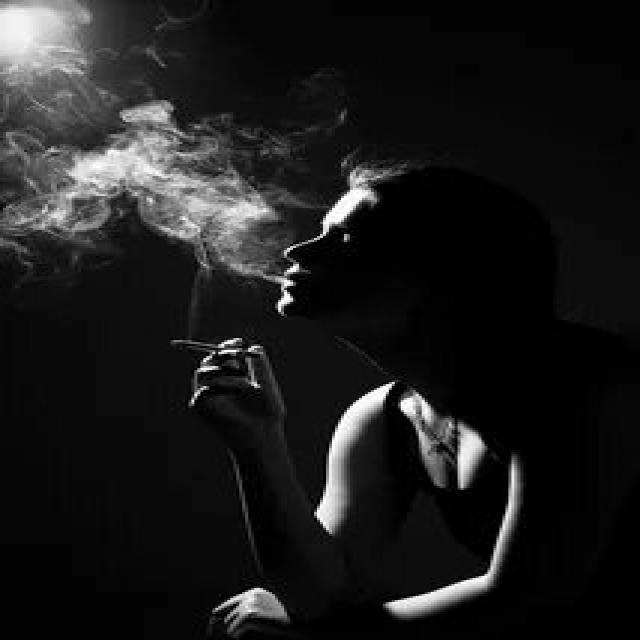cigarette: (168, 334, 245, 352)
